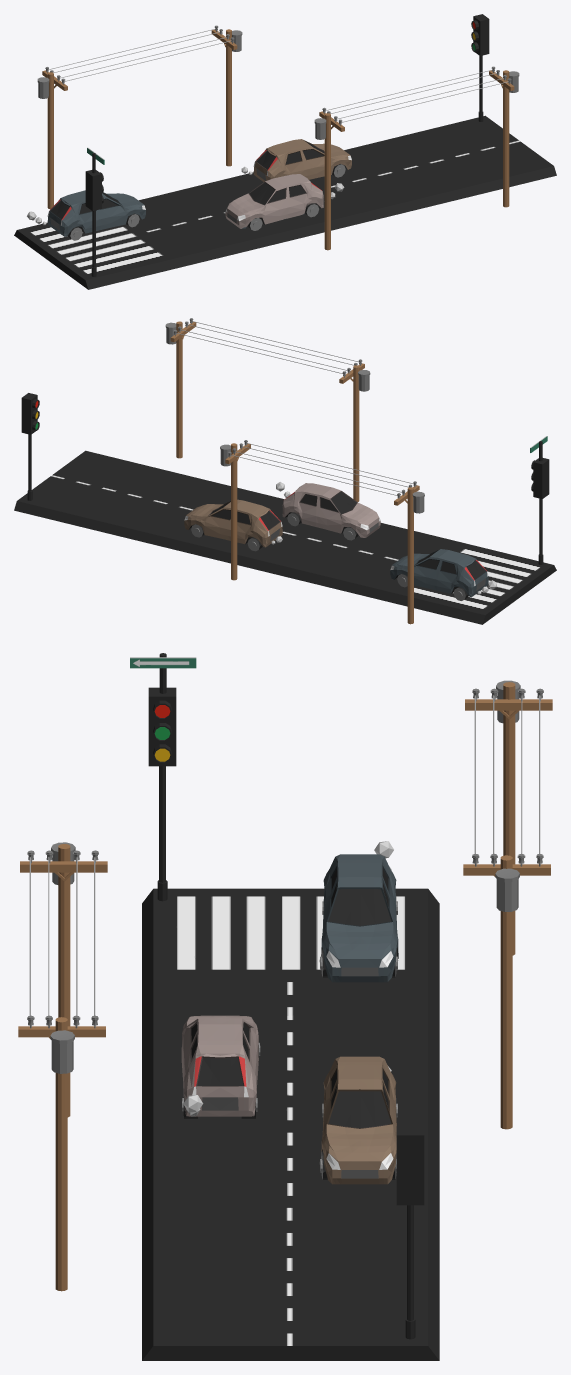
Rendered from road.glb.
3 renders of one model, top to bottom at view 1: azimuth 30°, elevation 25°; view 2: azimuth 150°, elevation 25°; view 3: azimuth 270°, elevation 25°, orthographic. The views are drawn at different scales.
Parts seen in each view (by area): view 1: Road_geo, red_body_geo, blue_body_geo, yellow_body_geo, pCube6, pCube8, pCube5, pCube7, Stop_Light_geo_02, Stop_Light_geo_01; view 2: Road_geo, red_body_geo, blue_body_geo, yellow_body_geo, pCube8, pCube6, pCube7, pCube5, Stop_Light_geo_02, Stop_Light_geo_01; view 3: Road_geo, blue_body_geo, yellow_body_geo, red_body_geo, pCube7, pCube5, Stop_Light_geo_02, pCube6, pCube8, Stop_Light_geo_01.
Part boxes in pixels (x1,y1,x2,y2): Road_geo: [14, 115, 556, 289]; red_body_geo: [225, 174, 323, 228]; blue_body_geo: [47, 190, 145, 236]; yellow_body_geo: [253, 139, 351, 181]; pCube6: [314, 107, 344, 250]; pCube8: [37, 67, 67, 209]; pCube5: [489, 66, 519, 207]; pCube7: [211, 25, 242, 166]; Stop_Light_geo_02: [85, 147, 104, 276]; Stop_Light_geo_01: [471, 14, 489, 121]; Road_geo: [14, 450, 556, 624]; red_body_geo: [282, 483, 380, 537]; blue_body_geo: [390, 549, 488, 596]; yellow_body_geo: [184, 499, 282, 547]; pCube8: [394, 481, 424, 624]; pCube6: [339, 359, 370, 501]; pCube7: [220, 440, 250, 580]; pCube5: [165, 318, 196, 458]; Stop_Light_geo_02: [530, 436, 549, 564]; Stop_Light_geo_01: [21, 393, 39, 500]; Road_geo: [142, 888, 439, 1360]; blue_body_geo: [321, 854, 398, 982]; yellow_body_geo: [321, 1056, 396, 1184]; red_body_geo: [181, 1015, 258, 1116]; pCube7: [463, 853, 550, 1129]; pCube5: [18, 1015, 105, 1291]; Stop_Light_geo_02: [130, 653, 196, 901]; pCube6: [20, 842, 107, 1117]; pCube8: [465, 680, 552, 955]; Stop_Light_geo_01: [396, 1126, 424, 1339].
Bounding box in the file's own units: 20.48 × 5.68 × 10.11.
Materials: 38 (22 with a texture image).
